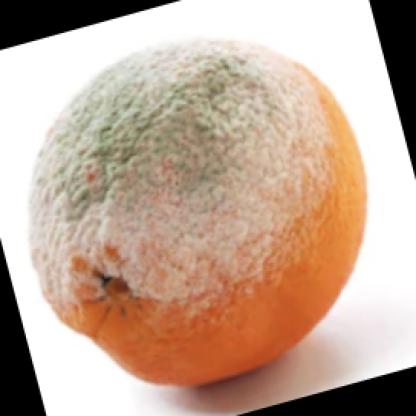rotten_orange: (15, 36, 382, 382)
